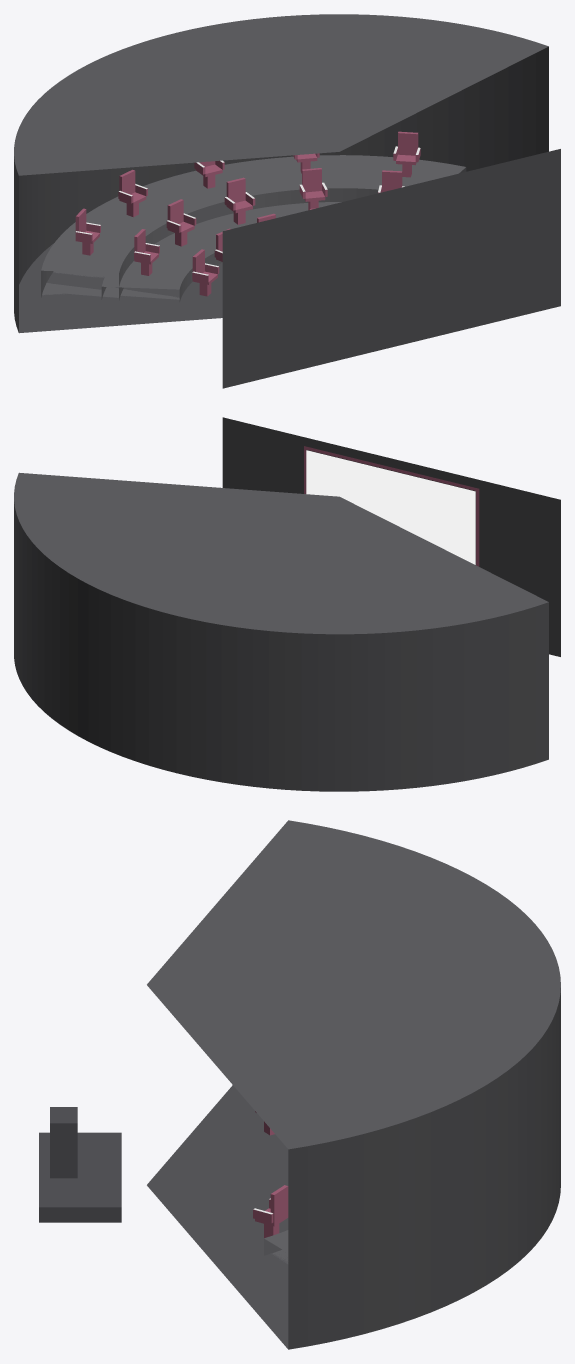
Rendered from theater_classroom.glb.
The picture shows the model from 3 angles, top to bottom: view 1: azimuth 30°, elevation 25°; view 2: azimuth 150°, elevation 25°; view 3: azimuth 270°, elevation 25°; orthographic projection. The views are drawn at different scales.
Parts seen in each view (by area): view 1: Ceiling, Wall_Front_Flat, Wall_Curved, Riser_Row3, Floor, Riser_Row2, Seat_R2_03, Seat_R3_01, Seat_R2_04, Seat_R3_04, Seat_R2_02, Seat_R1_05 (+3 smaller); view 2: Wall_Curved, Ceiling, Wall_Front_Flat, ProjectorScreen, ScreenBezel_Top; view 3: Ceiling, Wall_Curved, Floor, Stage, Podium, Seat_R1_01.
Boxes of the visible parts, left/top/right/bottom form: Ceiling: left=14, top=14, right=548, bottom=175; Wall_Front_Flat: left=222, top=149, right=560, bottom=388; Wall_Curved: left=14, top=46, right=548, bottom=332; Riser_Row3: left=41, top=155, right=466, bottom=300; Floor: left=19, top=243, right=222, bottom=333; Riser_Row2: left=101, top=202, right=341, bottom=301; Seat_R2_03: left=224, top=177, right=255, bottom=224; Seat_R3_01: left=393, top=131, right=420, bottom=177; Seat_R2_04: left=166, top=199, right=196, bottom=246; Seat_R3_04: left=118, top=169, right=147, bottom=217; Seat_R2_02: left=299, top=168, right=327, bottom=210; Seat_R1_05: left=192, top=249, right=219, bottom=296; Wall_Curved: left=14, top=502, right=548, bottom=791; Ceiling: left=14, top=472, right=548, bottom=634; Wall_Front_Flat: left=222, top=417, right=560, bottom=656; ProjectorScreen: left=306, top=450, right=475, bottom=564; ScreenBezel_Top: left=304, top=446, right=479, bottom=491; Ceiling: left=147, top=820, right=560, bottom=1149; Wall_Curved: left=288, top=988, right=560, bottom=1349; Floor: left=147, top=1085, right=288, bottom=1349; Stage: left=39, top=1132, right=121, bottom=1222; Podium: left=50, top=1107, right=77, bottom=1178; Seat_R1_01: left=253, top=1185, right=288, bottom=1238.
Bounding box in the file's own units: 14.1 × 4 × 9.9.
